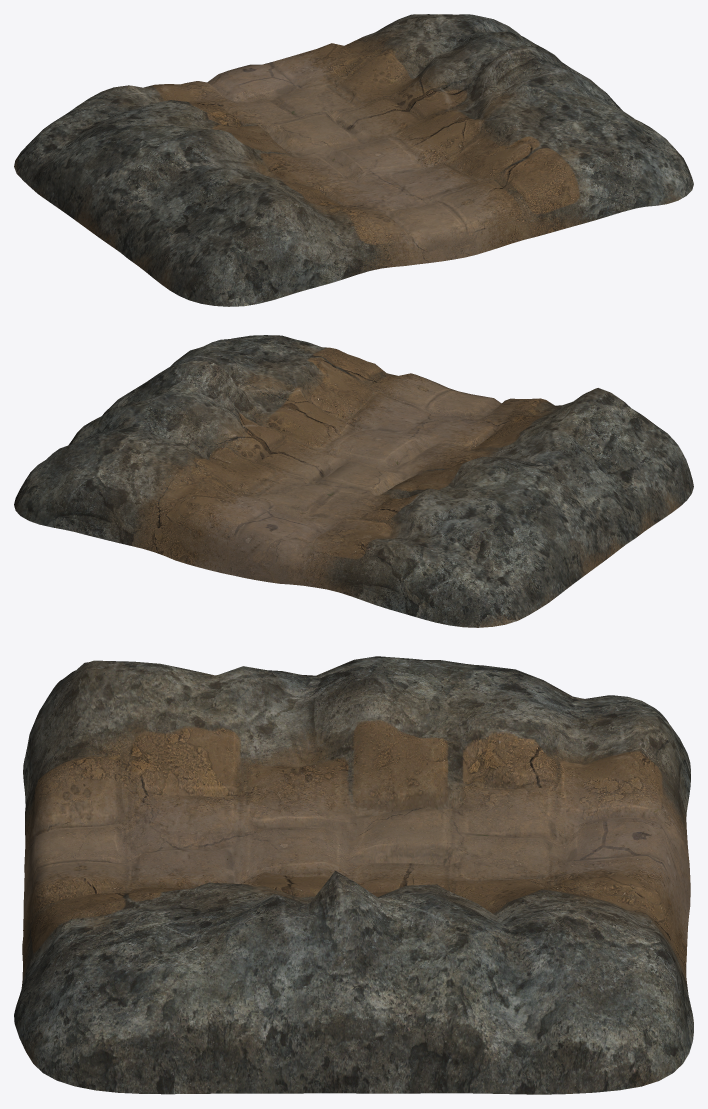
The model's file is cave_ravine_floor_03_straight.dae.
The picture shows the model from 3 angles, top to bottom: view 1: azimuth 30°, elevation 25°; view 2: azimuth 150°, elevation 25°; view 3: azimuth 270°, elevation 25°; orthographic projection. The views are drawn at different scales.
Parts seen in each view (by area): view 1: floor_3; view 2: floor_3; view 3: floor_3.
Boxes of the visible parts, x1,y1,x2,y2 form: floor_3: (14, 14, 693, 306); floor_3: (14, 335, 693, 627); floor_3: (14, 656, 693, 1094).
Size of what is drawn, in the model's own units: 1.77 by 0.318 by 1.35.
